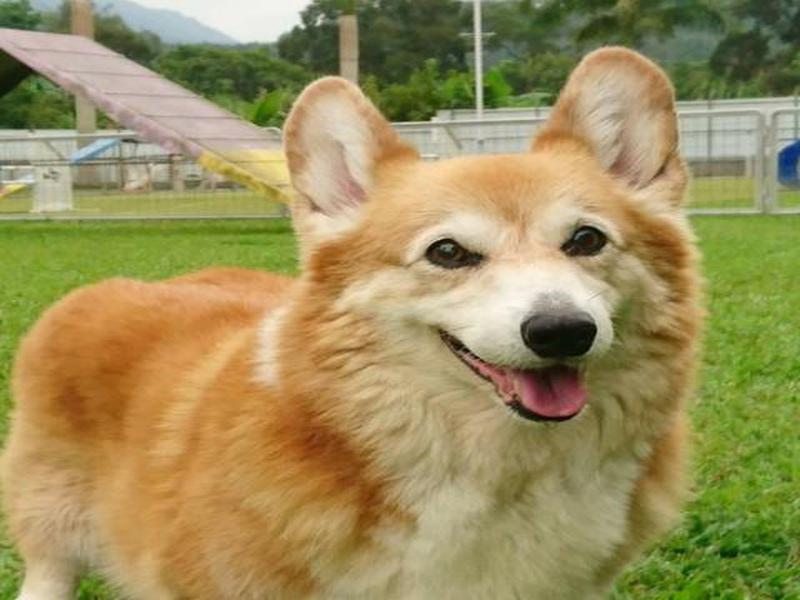corgi: (280, 46, 685, 430)
